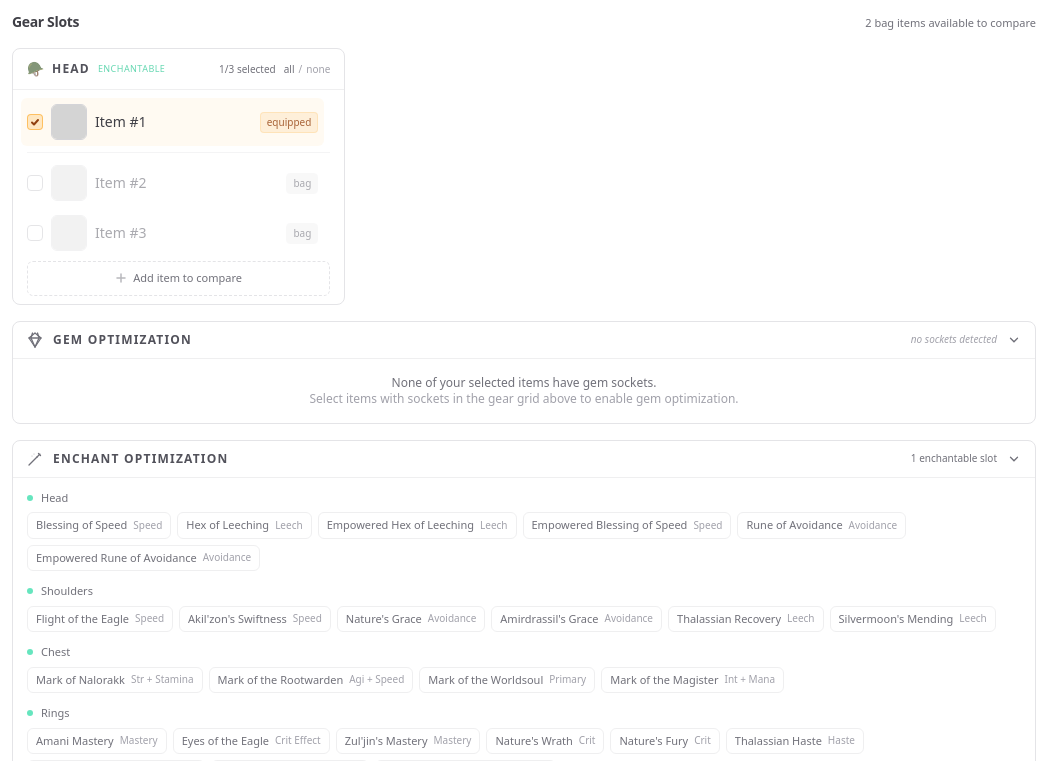
Test: GearPanel › "Select all" selects every item in the slot
Check: the text "1/3 selected" is shown, box top-left (219, 62), bottom-right (276, 76)
Click the button with aria-label "Select all Head items": (289,69) top-left (284, 62), bottom-right (295, 76)
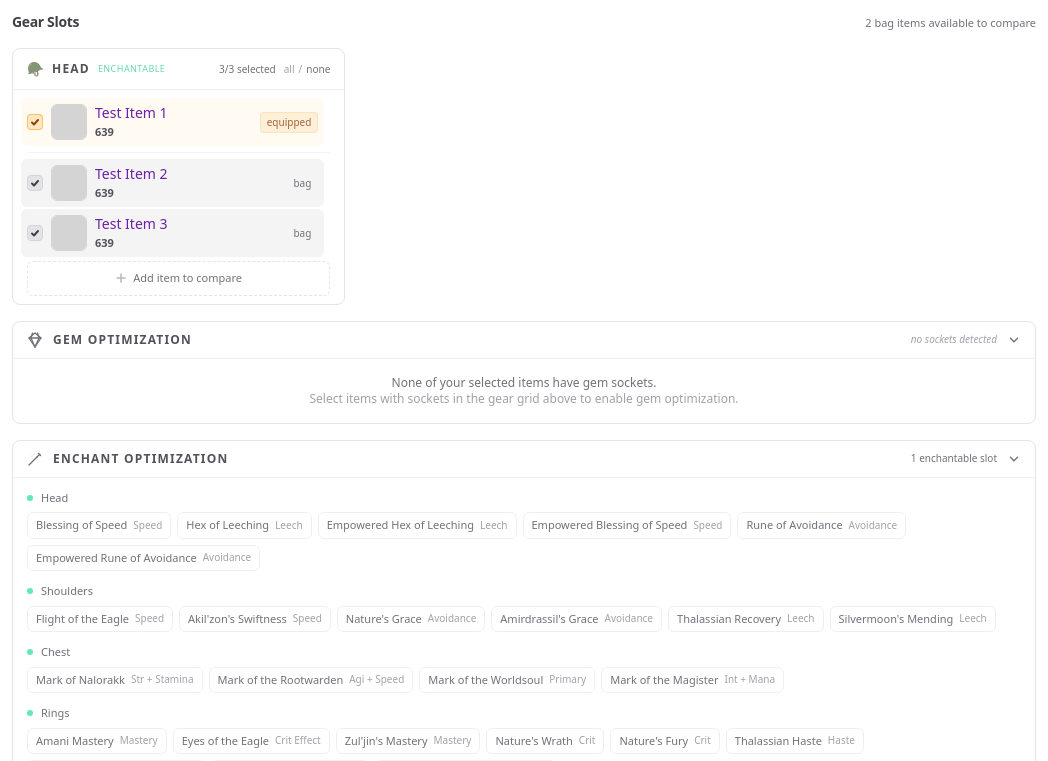
Check: the text "3/3 selected" is shown, box top-left (219, 62), bottom-right (276, 76)
